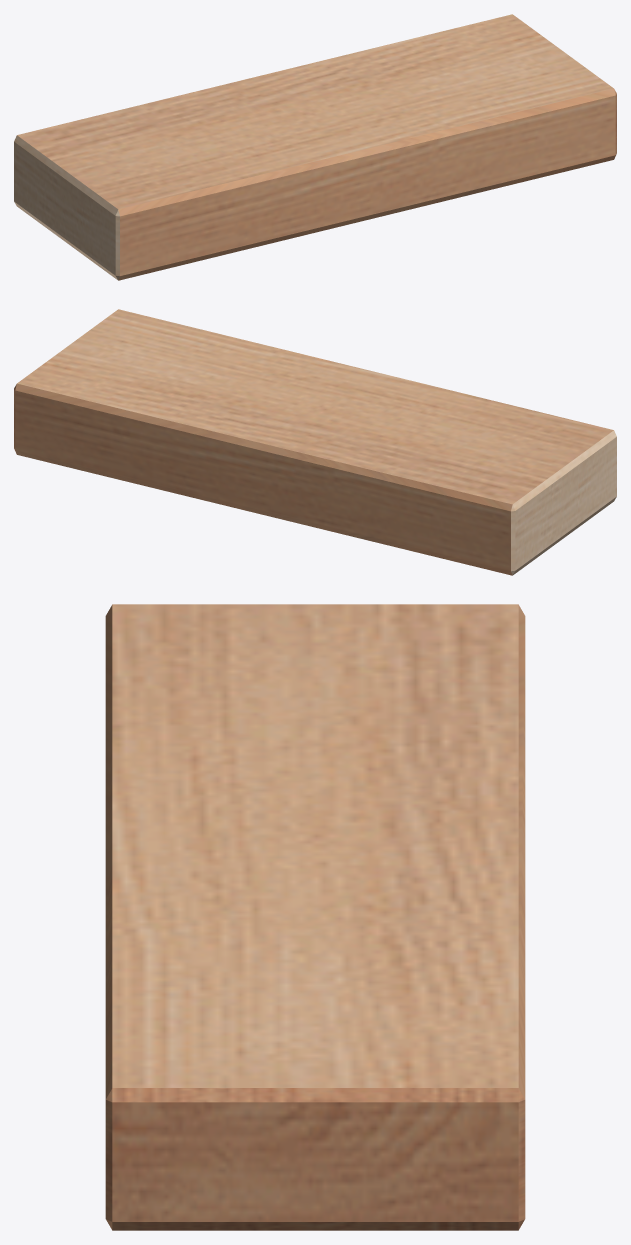
Rendered from Doll_OB_Blocks_014.FBX.
3 views of the same model, one above another, from view 1: azimuth 30°, elevation 25°; view 2: azimuth 150°, elevation 25°; view 3: azimuth 270°, elevation 25° (orthographic). The views are drawn at different scales.
Parts seen in each view (by area): view 1: Doll_OB_Blocks_014; view 2: Doll_OB_Blocks_014; view 3: Doll_OB_Blocks_014.
Boxes of the visible parts, bbox=[...] form: Doll_OB_Blocks_014: bbox=[14, 14, 616, 280]; Doll_OB_Blocks_014: bbox=[14, 309, 616, 575]; Doll_OB_Blocks_014: bbox=[105, 604, 525, 1230].
Size of the model in its own units: 12.8 by 1.74 by 4.64.
